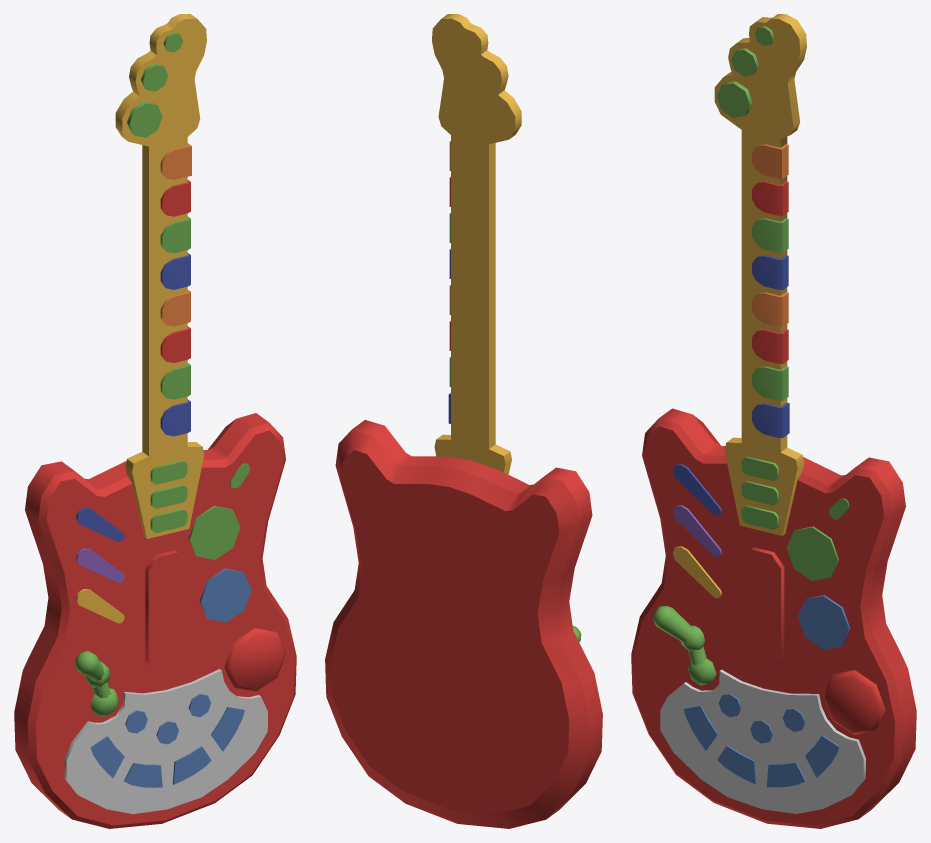
File: Guitar_01.fbx
The picture shows the model from 3 angles, left to right: view 1: azimuth 30°, elevation 25°; view 2: azimuth 150°, elevation 25°; view 3: azimuth 330°, elevation 25°; orthographic projection. The views are drawn at different scales.
Parts seen in each view (by area): view 1: Guitar_01; view 2: Guitar_01; view 3: Guitar_01.
Boxes of the visible parts, bbox=[...] form: Guitar_01: bbox=[14, 14, 296, 828]; Guitar_01: bbox=[325, 14, 602, 828]; Guitar_01: bbox=[631, 14, 916, 828].
Size of the model in its own units: 0.4294 by 1.23 by 0.1097.
